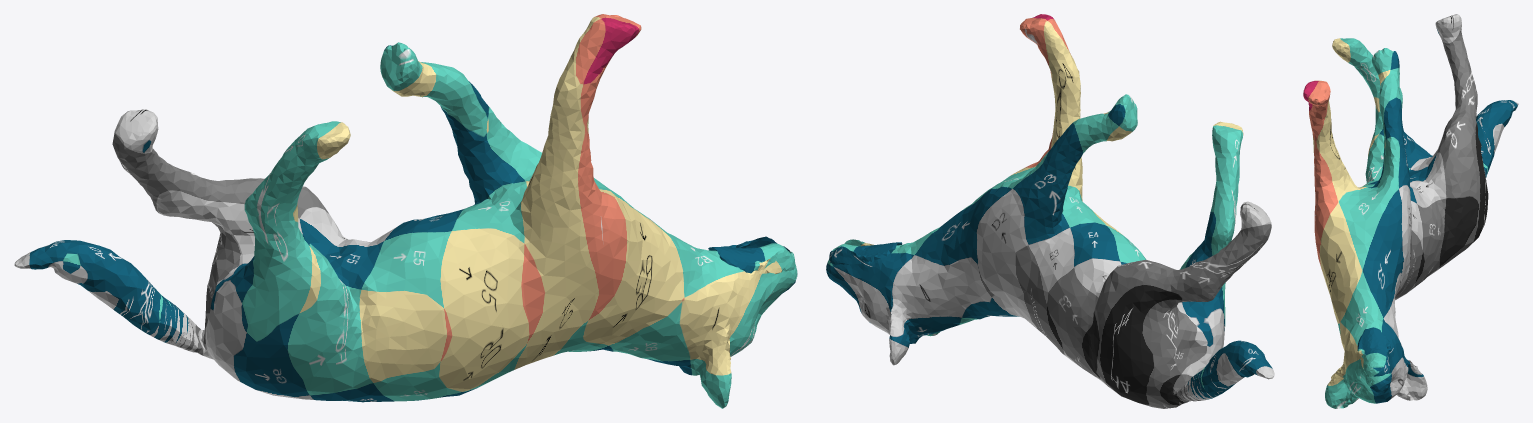
File: hippo_06-dog_05.obj
3 renders of one model, left to right at view 1: azimuth 30°, elevation 25°; view 2: azimuth 150°, elevation 25°; view 3: azimuth 270°, elevation 25°, orthographic. The views are drawn at different scales.
Visible parts, largest first — view 1: hippo_06-dog_05_export; view 2: hippo_06-dog_05_export; view 3: hippo_06-dog_05_export.
Part boxes in pixels (x1,y1,x2,y2): hippo_06-dog_05_export: (14, 14, 797, 408); hippo_06-dog_05_export: (826, 14, 1274, 408); hippo_06-dog_05_export: (1303, 14, 1518, 408).
Size of the model in its own units: 1.13 by 0.6869 by 0.4708.
